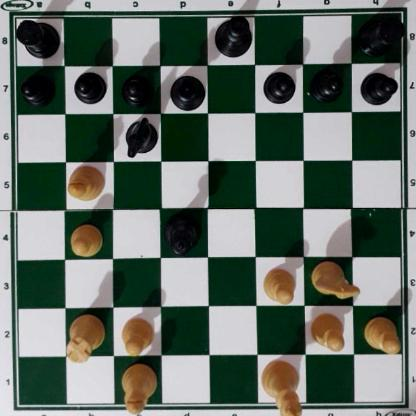black-bishop: (167, 73, 206, 111)
black-king: (212, 14, 254, 58)
black-knight: (120, 115, 158, 158)
black-pawn: (360, 69, 396, 105), (309, 68, 344, 101), (262, 67, 295, 102), (20, 72, 54, 104), (73, 70, 105, 104), (121, 72, 153, 106)
black-queen: (161, 211, 201, 255)
black-rook: (12, 15, 59, 58), (358, 14, 404, 56)
white-bishop: (121, 360, 157, 415), (66, 164, 104, 201)
white-king: (260, 359, 304, 416)
white-knight: (310, 259, 361, 299)
white-pawn: (309, 311, 347, 353), (363, 315, 401, 354), (120, 316, 154, 356), (262, 266, 295, 303), (69, 223, 103, 258)
white-rook: (64, 314, 105, 363)
